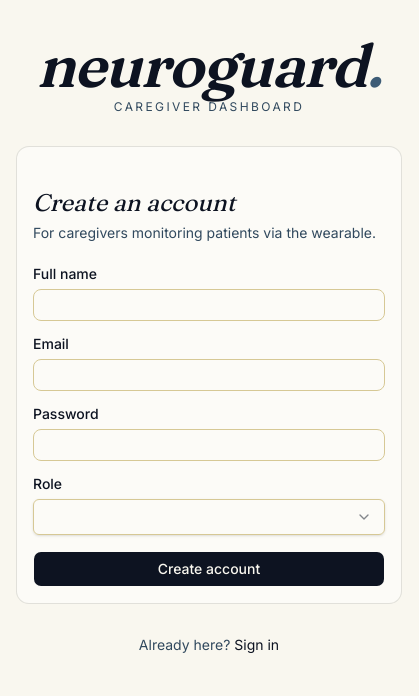
it: SignupPage › renders a server error message when signUp fails
Type "X" into the field labelled "Full name" at (209, 305), box [33, 289, 385, 321]
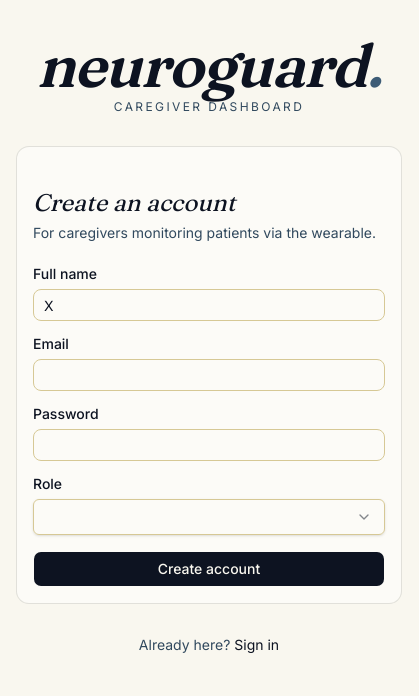
Type "x@x.com" into the field labelled "Email" at (209, 375), box [33, 359, 385, 391]
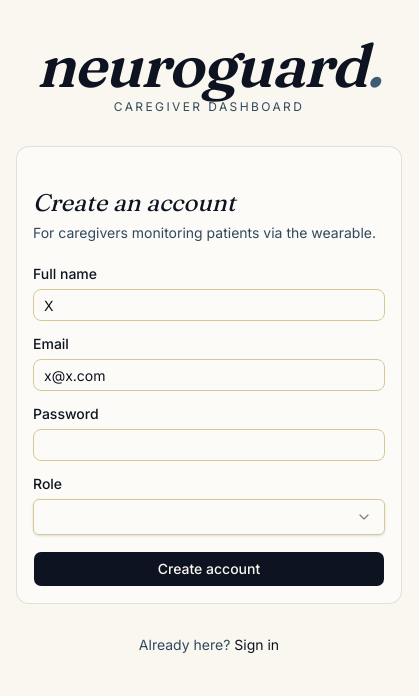
Type "pass1234" into the password field labelled "Password" at (209, 445), box [33, 429, 385, 461]
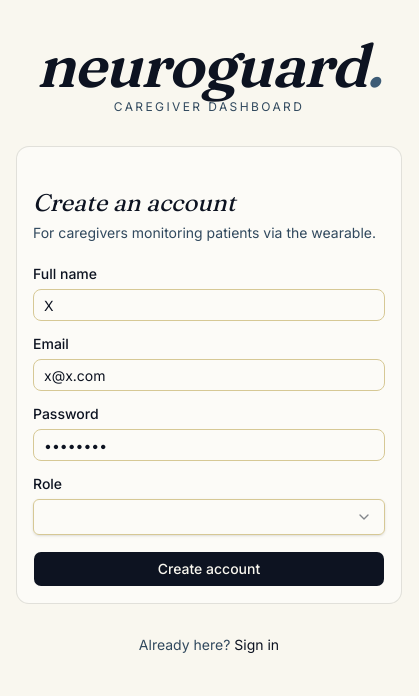
Click the button "Create account" at (209, 569), box [33, 551, 385, 587]
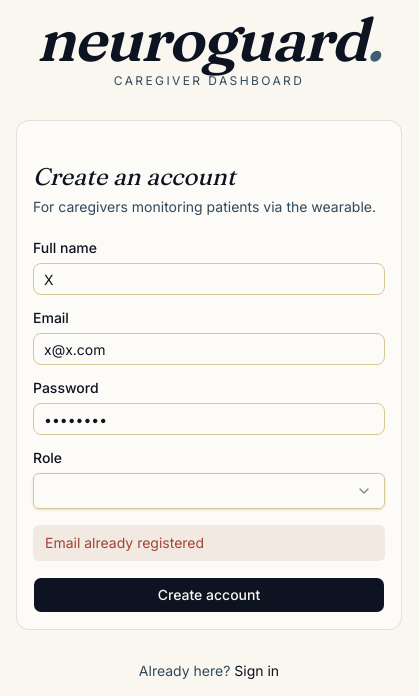
Now the text "Email already registered" is shown, box [33, 525, 385, 561]
